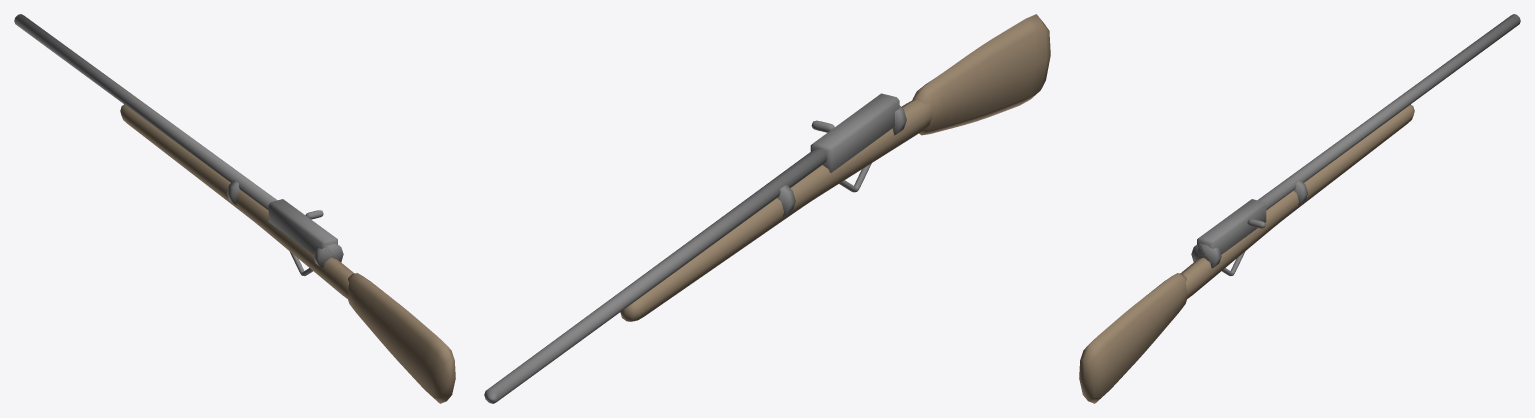
The model's file is rifle.glb.
3 views of the same model, side by side, from view 1: azimuth 30°, elevation 25°; view 2: azimuth 150°, elevation 25°; view 3: azimuth 330°, elevation 25° (orthographic). The views are drawn at different scales.
Parts seen in each view (by area): view 1: rifle; view 2: rifle; view 3: rifle.
Boxes of the visible parts, box(x1,y1,x2,y2) form: rifle: box(14, 14, 455, 403); rifle: box(484, 14, 1050, 403); rifle: box(1079, 14, 1520, 403).
Bounding box in the file's own units: 0.0652 × 0.1342 × 1.25.
